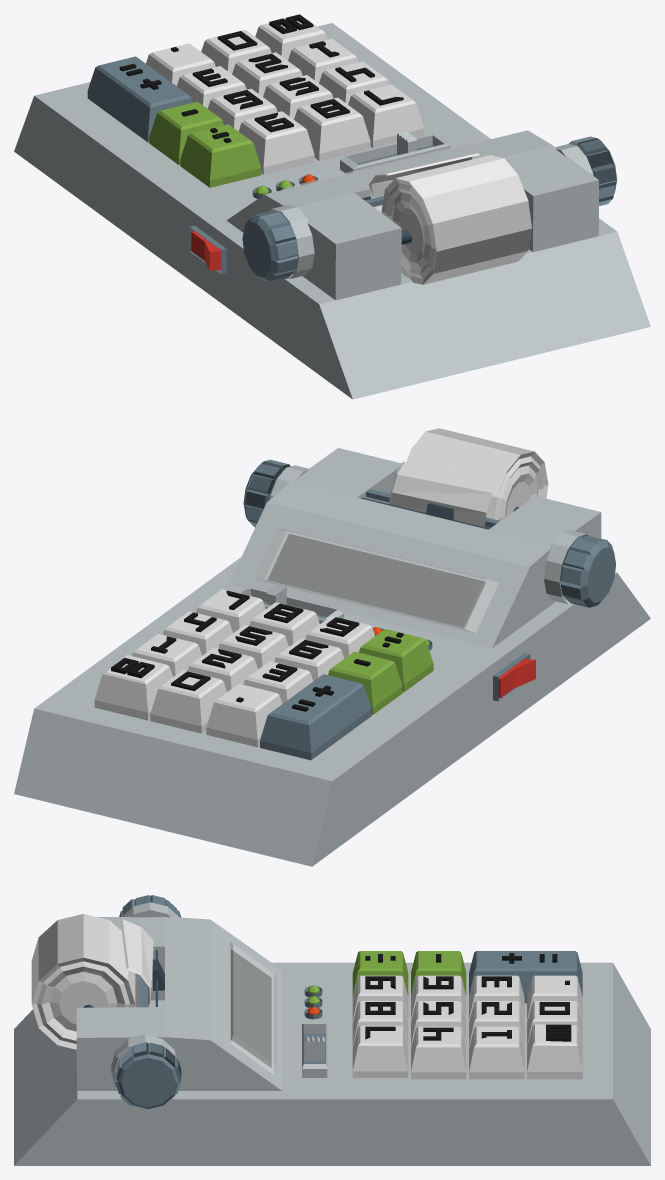
File: Printing Calculator.fbx
The picture shows the model from 3 angles, top to bottom: view 1: azimuth 30°, elevation 25°; view 2: azimuth 150°, elevation 25°; view 3: azimuth 270°, elevation 25°; orthographic projection. The views are drawn at different scales.
Parts seen in each view (by area): view 1: mesh2060062127; view 2: mesh2060062127; view 3: mesh2060062127.
Boxes of the visible parts, x1,y1,x2,y2 form: mesh2060062127: [14, 14, 650, 399]; mesh2060062127: [14, 428, 650, 866]; mesh2060062127: [14, 895, 650, 1165].
Size of the model in its own units: 5.3 by 2.52 by 9.02.
